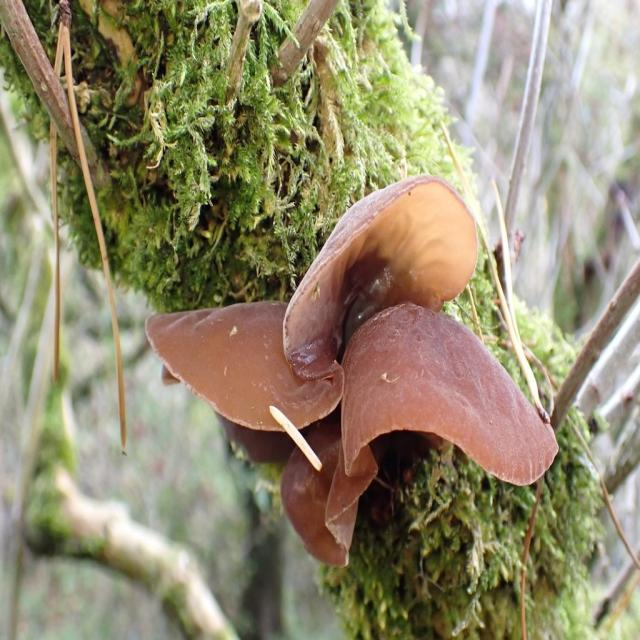Fase Muda: (280, 170, 485, 388), (338, 301, 562, 482), (144, 296, 346, 441), (277, 406, 379, 576)
